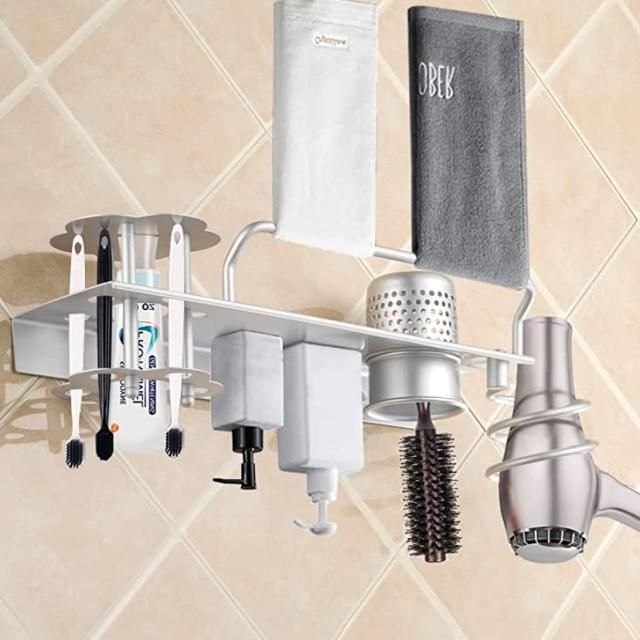dryer: (483, 305, 640, 577)
